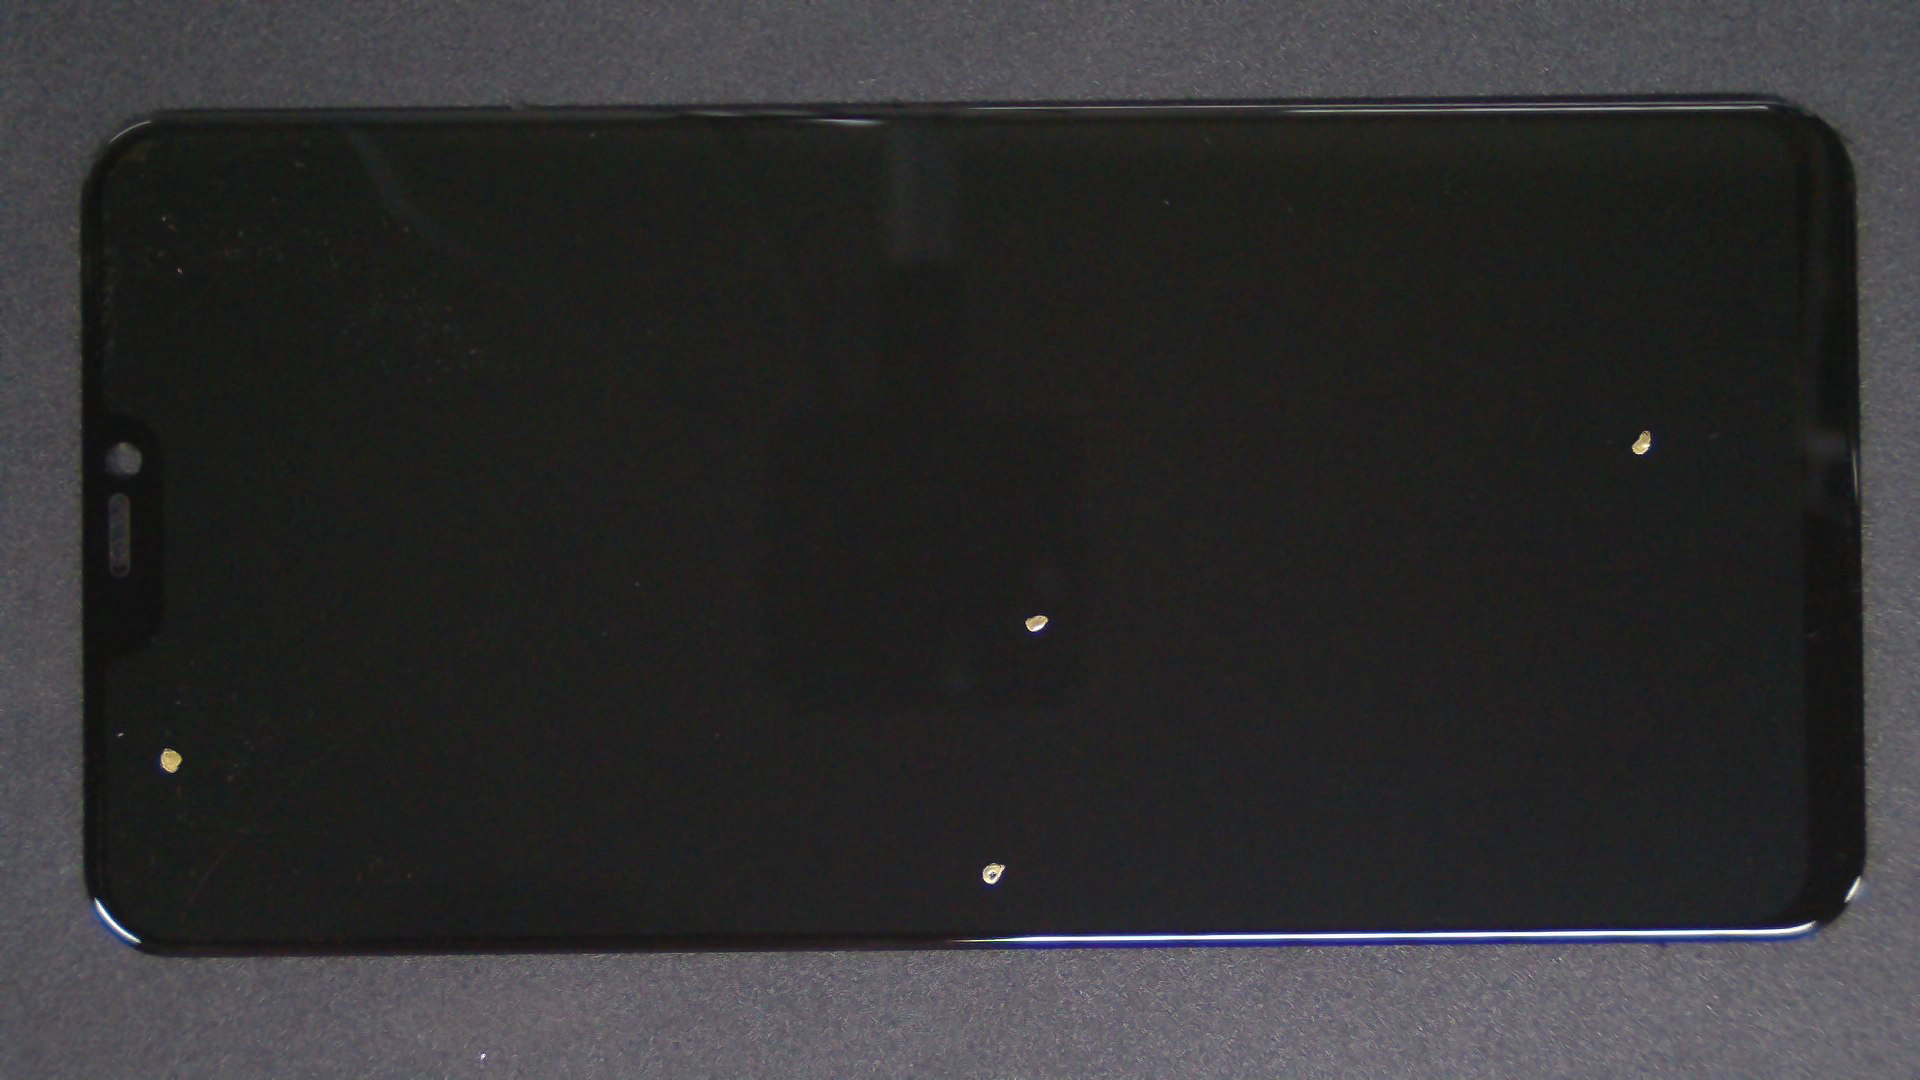defect: (978, 858, 1007, 886), (158, 746, 185, 775), (1629, 429, 1654, 458), (1025, 613, 1050, 634)
